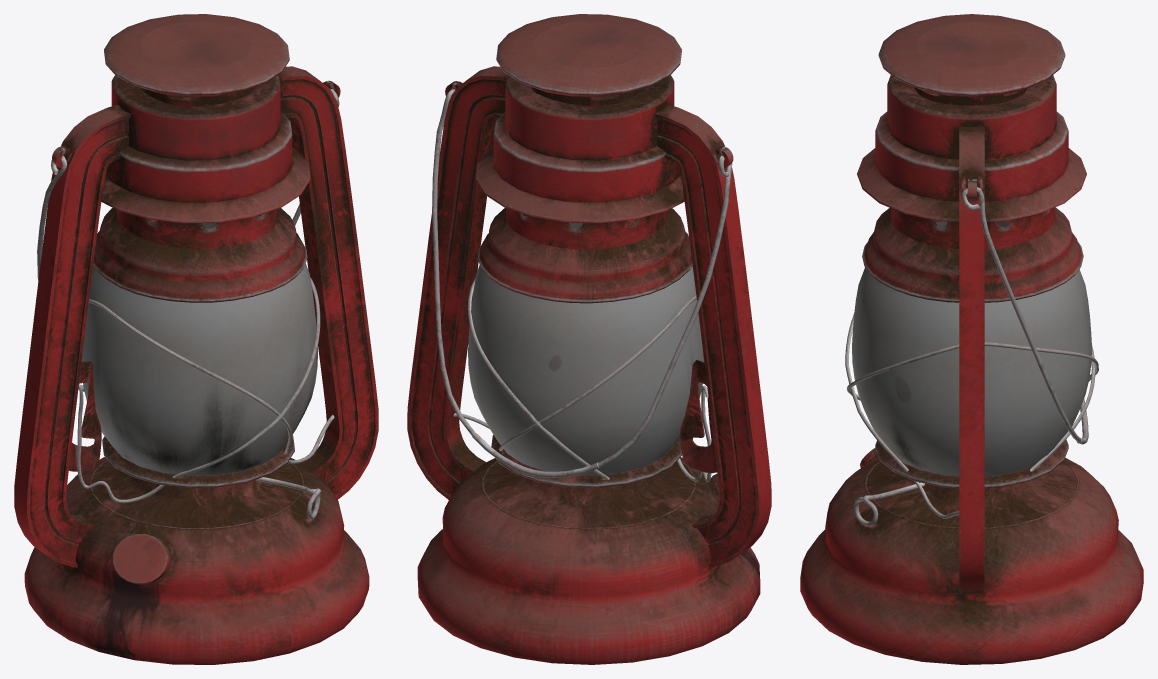
The model's file is lantern_obj.obj.
3 views of the same model, side by side, from view 1: azimuth 30°, elevation 25°; view 2: azimuth 150°, elevation 25°; view 3: azimuth 270°, elevation 25° (orthographic).
Visible parts, largest first — view 1: lantern lantern_base, glass lantern, lantern supporting_cage, lantern lid, lantern handle, lantern handle_small; view 2: lantern lantern_base, glass lantern, lantern handle, lantern supporting_cage; view 3: lantern lantern_base, glass lantern, lantern supporting_cage, lantern handle, lantern handle_small.
Boxes of the visible parts, bbox=[...] form: lantern lantern_base: bbox=[14, 14, 378, 664]; glass lantern: bbox=[81, 221, 317, 475]; lantern supporting_cage: bbox=[77, 277, 334, 503]; lantern lid: bbox=[112, 534, 169, 584]; lantern handle: bbox=[37, 89, 339, 391]; lantern handle_small: bbox=[255, 477, 321, 519]; lantern lantern_base: bbox=[407, 14, 771, 664]; glass lantern: bbox=[468, 222, 704, 475]; lantern handle: bbox=[432, 89, 732, 477]; lantern supporting_cage: bbox=[453, 278, 711, 482]; lantern lantern_base: bbox=[800, 14, 1143, 664]; glass lantern: bbox=[852, 221, 1091, 476]; lantern supporting_cage: bbox=[845, 313, 1098, 518]; lantern handle: bbox=[962, 187, 1088, 444]; lantern handle_small: bbox=[854, 482, 924, 526].
Bounding box in the file's own units: 59.83 × 89.3 × 50.64.
1 material, 1 textured.
